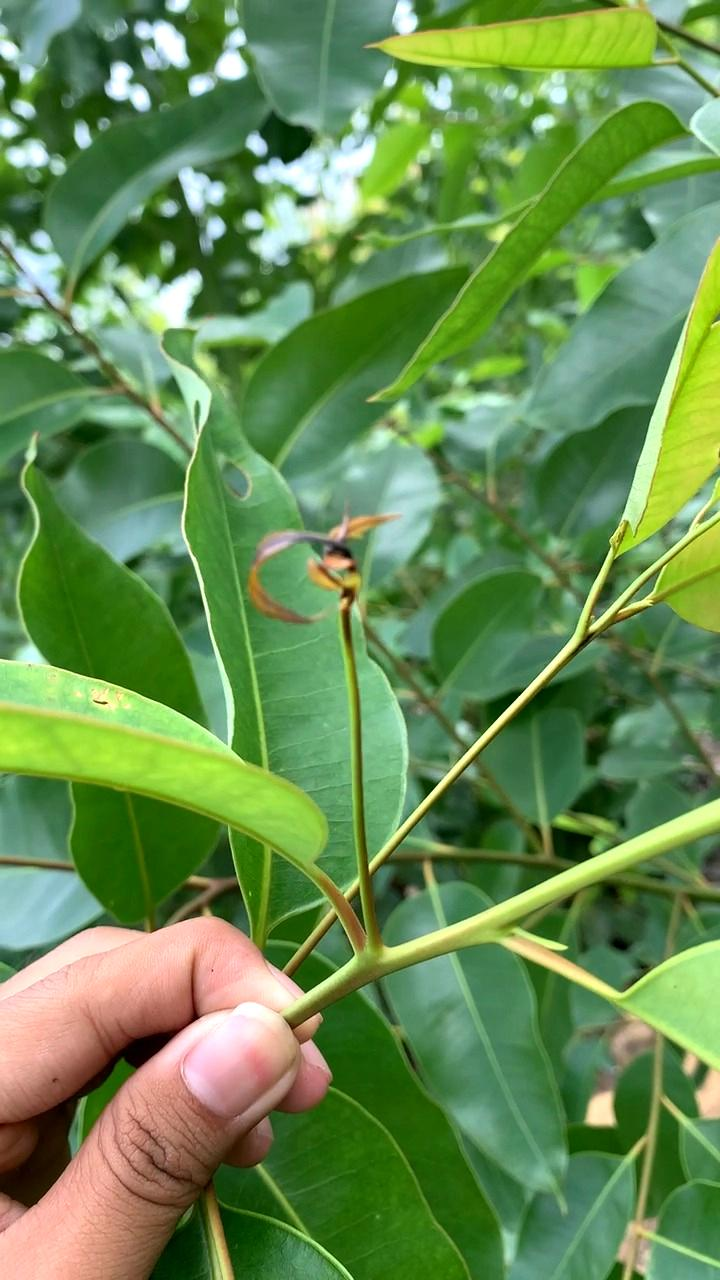Helopeltis-Withered Sprout: (236, 503, 413, 634)
